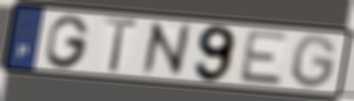9: (192, 24, 240, 84)
E: (237, 29, 292, 87)
G: (290, 32, 339, 91), (44, 13, 92, 70)
N: (139, 20, 193, 78)
T: (101, 16, 141, 75)
